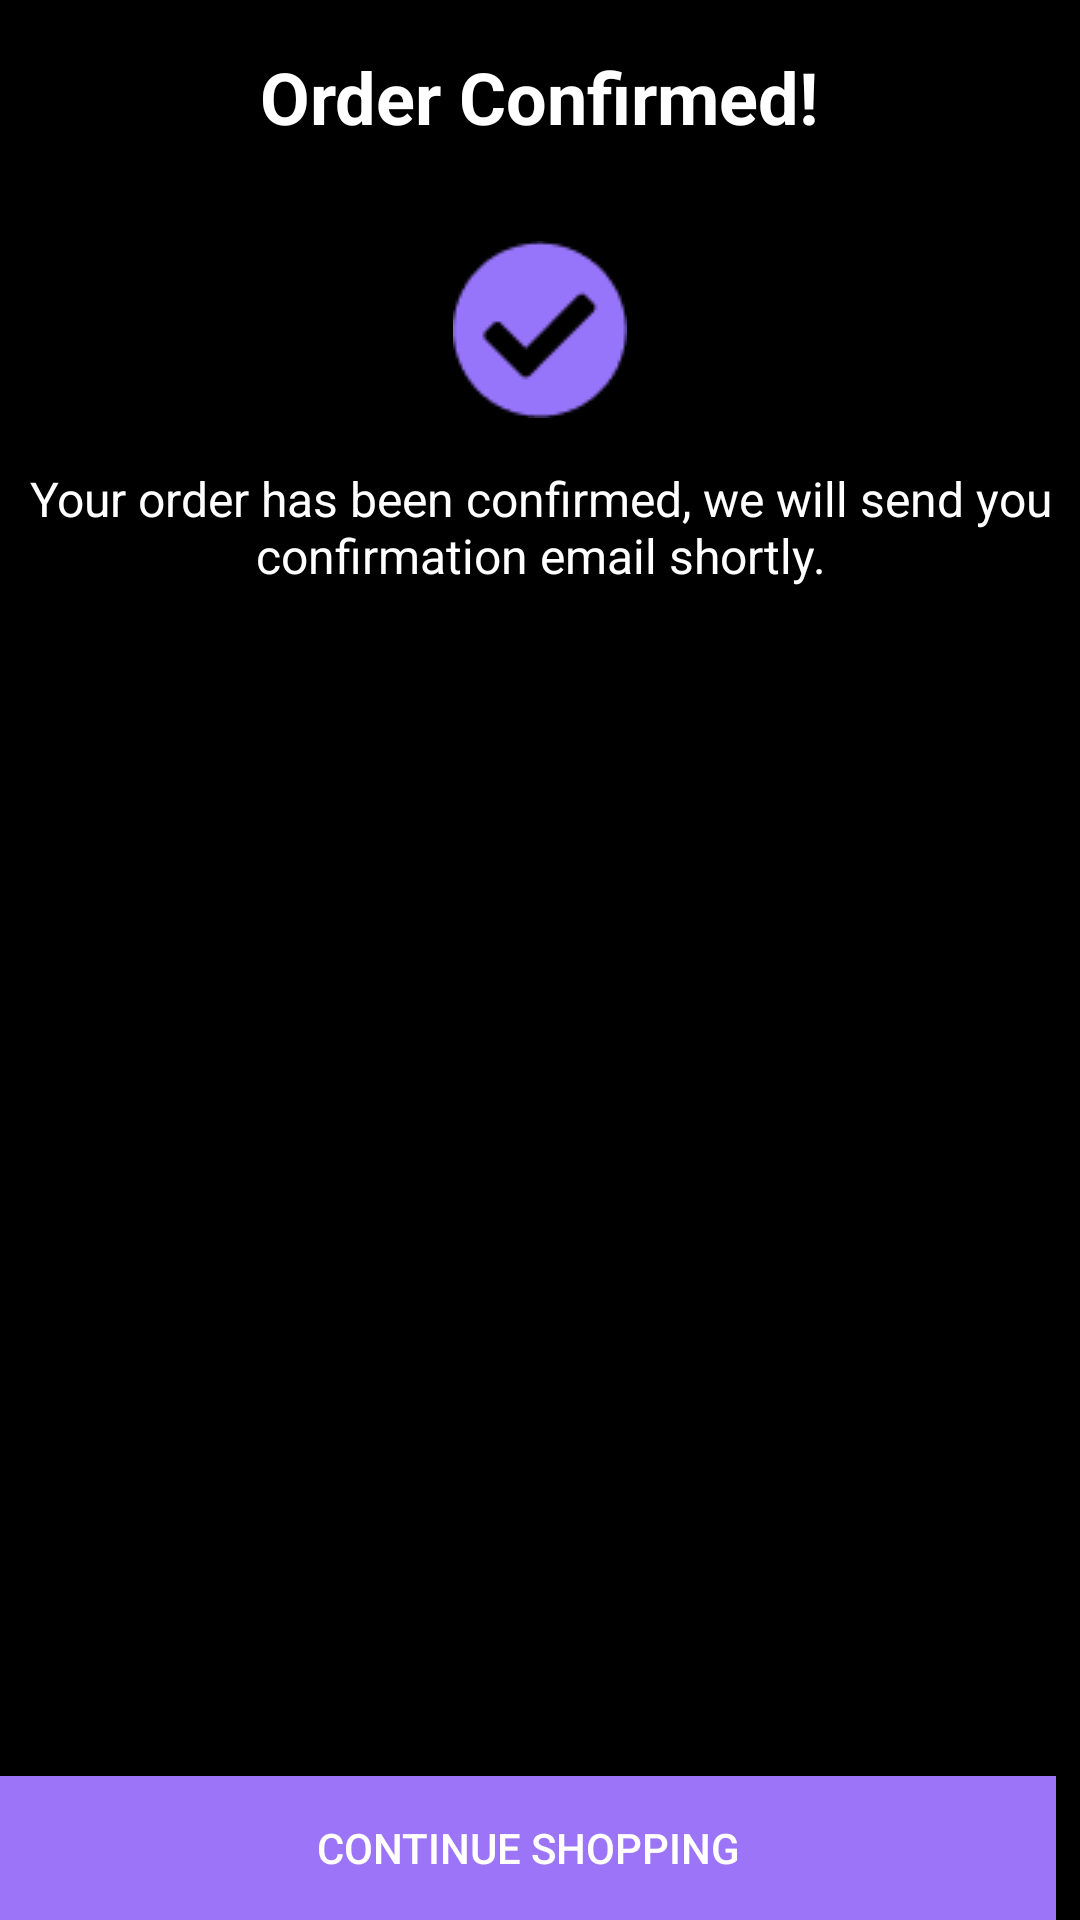

Named icons in this screenshot (1080x1920) and their centers, (x=x, y=y):
tick: (x=540, y=329)
